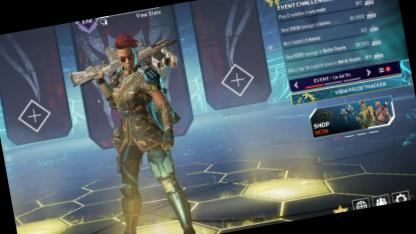Target: (90, 26, 208, 233)
